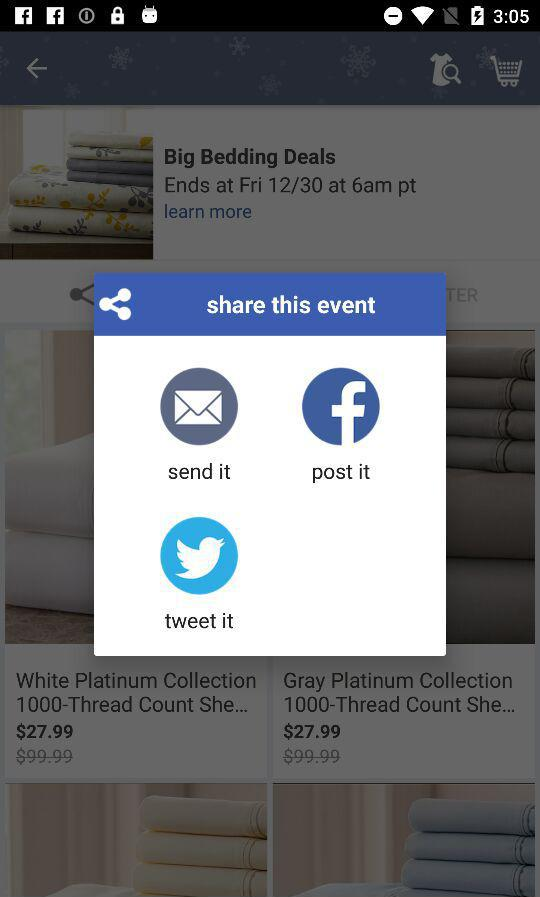Icon: (160, 368, 239, 446), (160, 518, 239, 595), (302, 368, 380, 445), (430, 53, 462, 88), (490, 56, 523, 89), (101, 288, 133, 321), (26, 59, 49, 81)
Image: (1, 107, 152, 259)
Modal: (94, 273, 447, 657)
Text: (17, 671, 257, 713), (285, 672, 515, 713), (166, 177, 417, 198), (164, 148, 336, 170), (207, 295, 375, 315), (165, 204, 252, 220), (312, 463, 371, 483), (165, 613, 235, 629), (283, 747, 340, 766), (169, 463, 232, 480), (283, 723, 341, 741), (16, 723, 74, 741), (17, 747, 74, 765)
UpperTaskBar: (1, 1, 540, 33)
